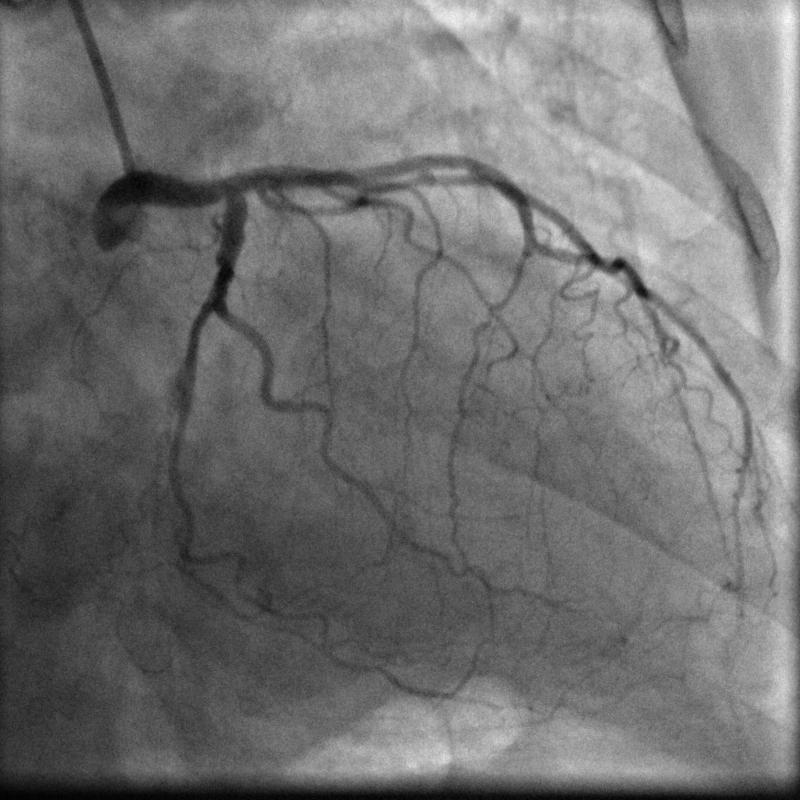Stenosis: (393, 170, 471, 194)
